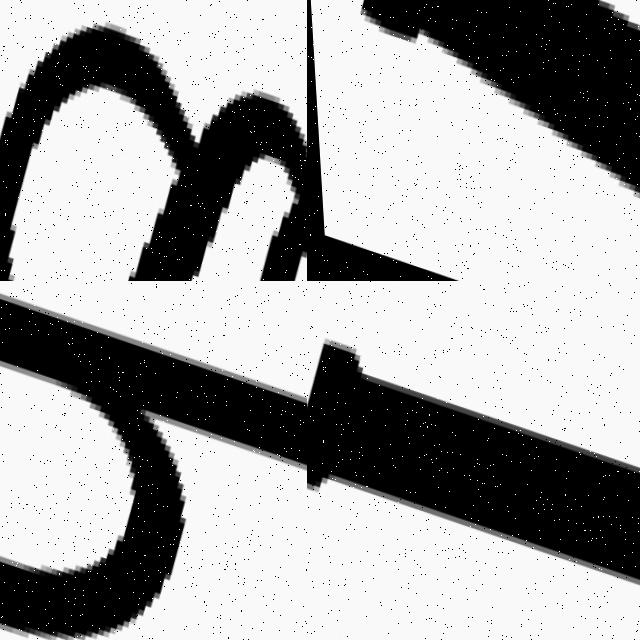G: (0, 0, 307, 281)
H: (0, 281, 307, 640)
L: (307, 313, 640, 640)
U: (307, 0, 640, 281)
